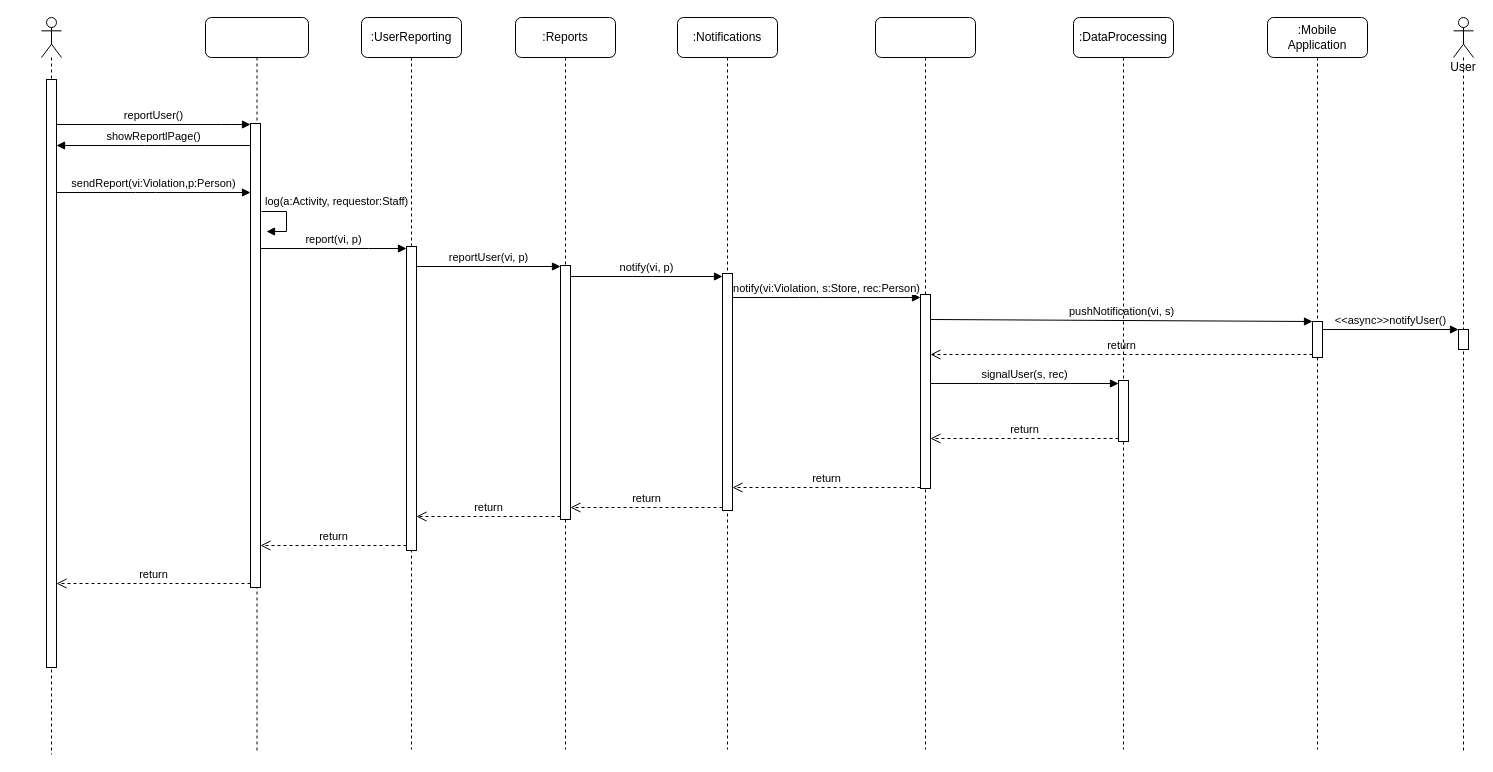
Image size: 1493x772. Some labels were removed from this diagram. Here are the shapes that lost their labels. From the top down, the box of each, then its label:
(40, 16, 62, 754): StaffMember
(204, 16, 308, 752): :WebApplication
(874, 16, 976, 750): :People Management
